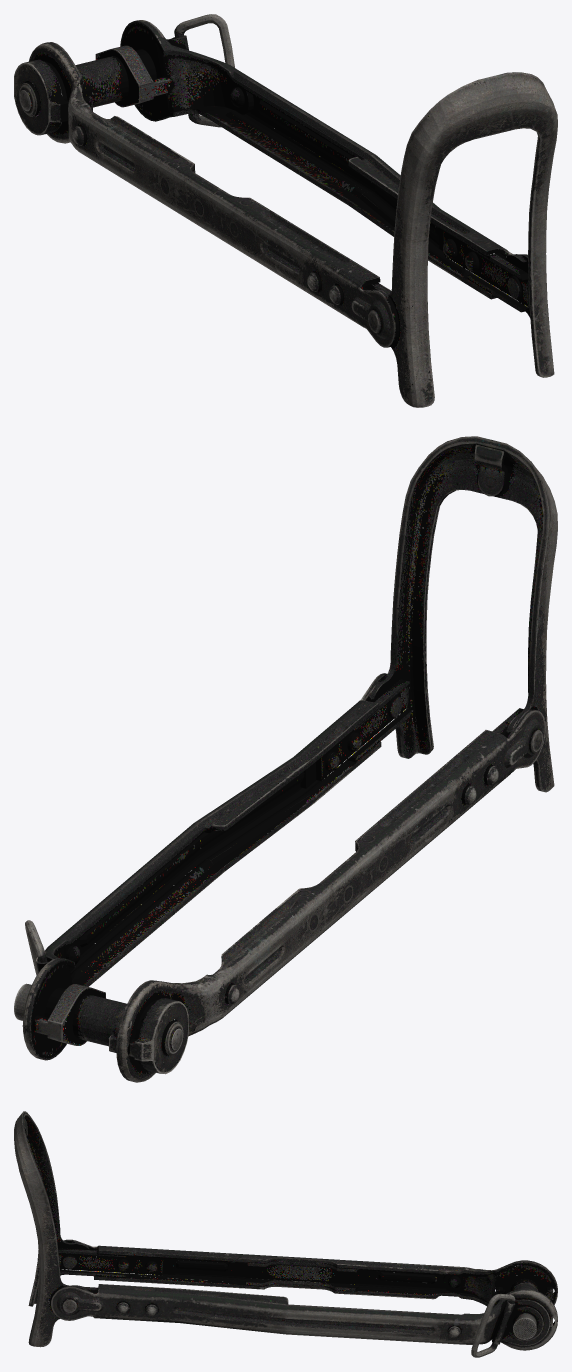
3 views of the same model, one above another, from view 1: azimuth 30°, elevation 25°; view 2: azimuth 150°, elevation 25°; view 3: azimuth 270°, elevation 25° (orthographic). The views are drawn at different scales.
Parts seen in each view (by area): view 1: TW_5abcd472d8ce8700166032ae_PZ_Import; view 2: TW_5abcd472d8ce8700166032ae_PZ_Import; view 3: TW_5abcd472d8ce8700166032ae_PZ_Import.
Boxes of the visible parts, <box> form: TW_5abcd472d8ce8700166032ae_PZ_Import: <box>14,14,557,407</box>; TW_5abcd472d8ce8700166032ae_PZ_Import: <box>14,436,557,1082</box>; TW_5abcd472d8ce8700166032ae_PZ_Import: <box>14,1111,557,1357</box>.
Bounding box in the file's own units: 0.0428 × 0.1706 × 0.0752.
1 material, 1 textured.
